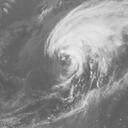cyclone: (45, 17, 95, 84)
